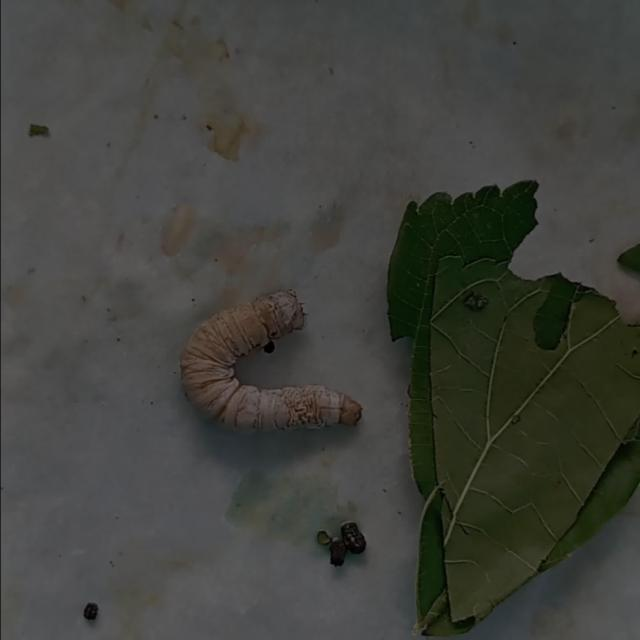Grasserie: (175, 274, 373, 442)
